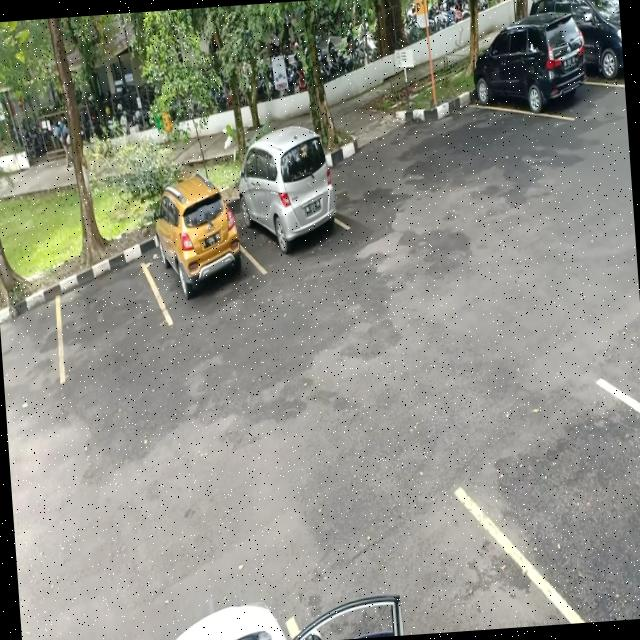empty: (485, 382, 640, 628), (50, 254, 164, 384)
occupied: (237, 157, 344, 276), (147, 198, 250, 321), (468, 31, 592, 126), (160, 614, 299, 640)
